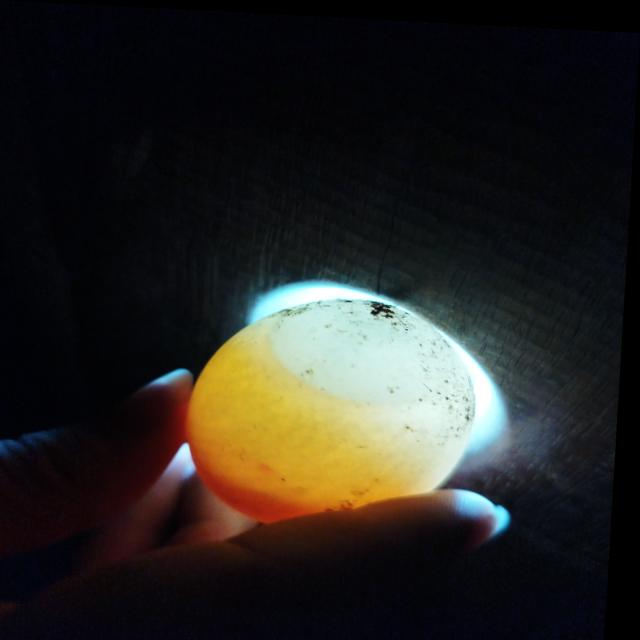Camara de Ar: (274, 301, 433, 395)
